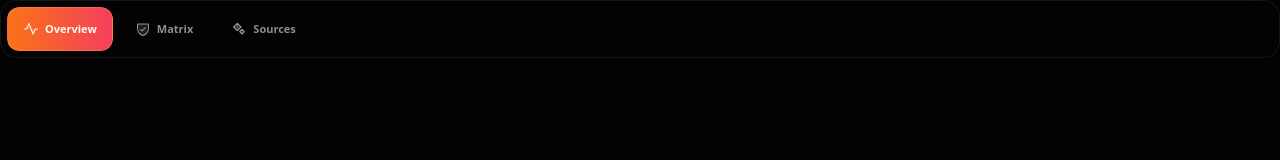
Test case: KokonutUI Obsidian Pack (8 components) › SmoothTab switches active tab via click and keyboard arrow navigation
The image size is (1280, 160).
// Click to switch
Step 1. Click the tab "Matrix" → (164, 29), box x1=119 y1=7 x2=209 y2=51
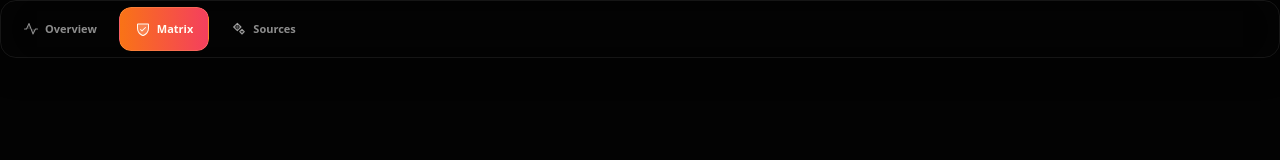
expect the tab "Matrix" is selected: met
expect the tab "Overview" is not selected: met, box x1=7 y1=7 x2=113 y2=51
// ArrowRight moves to next tab
Step 2. Press ArrowRight in the tab "Matrix", box x1=119 y1=7 x2=209 y2=51
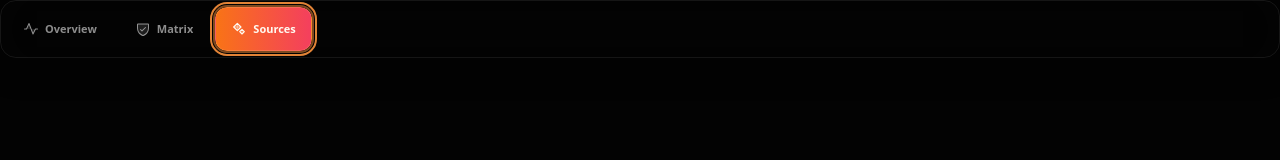
expect the tab "Sources" is selected: met, box x1=215 y1=7 x2=312 y2=51
